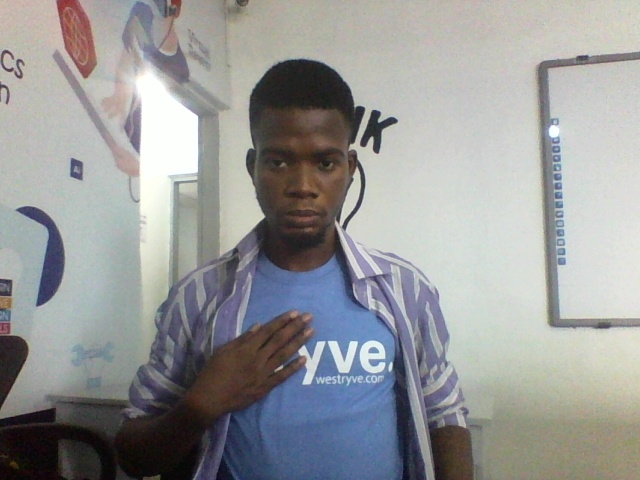please: (162, 306, 318, 433)
